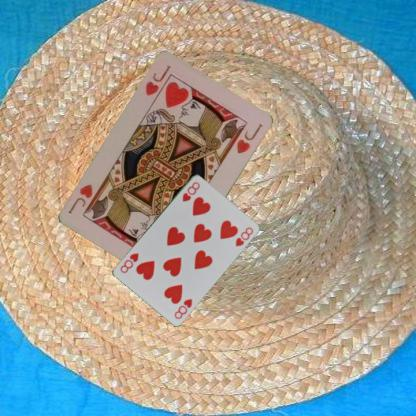8h: (172, 296, 194, 320), (180, 179, 201, 203)
Jh: (142, 63, 172, 98)
